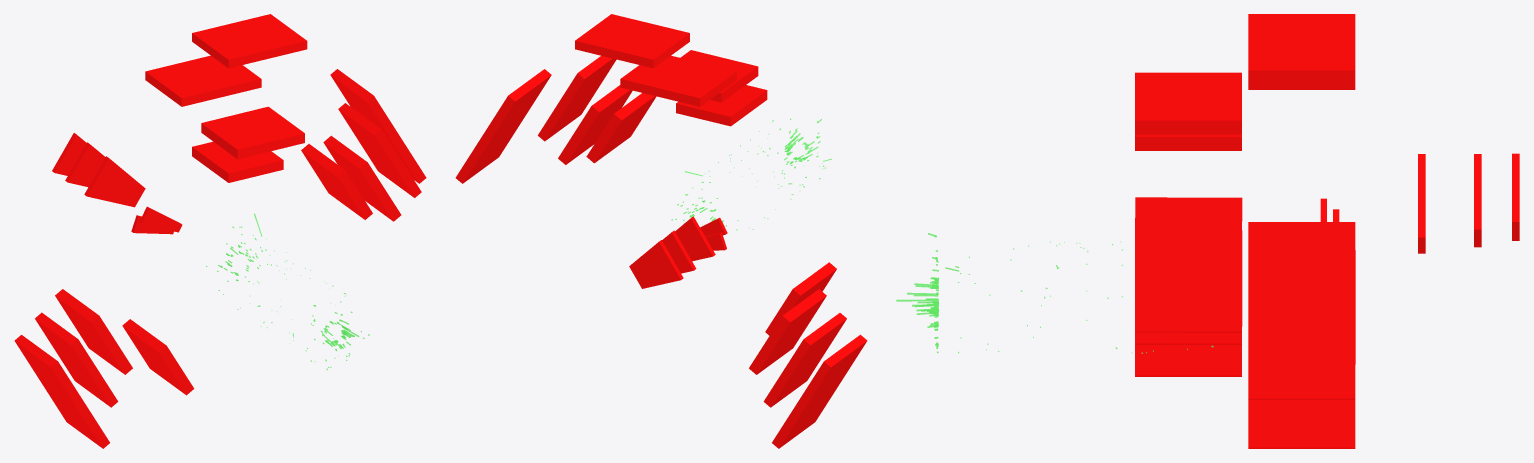
3 views of the same model, side by side, from view 1: azimuth 30°, elevation 25°; view 2: azimuth 150°, elevation 25°; view 3: azimuth 270°, elevation 25° (orthographic). The views are drawn at different scales.
Parts seen in each view (by area): view 1: MuonChambers_V1, EERecHits_V2; view 2: MuonChambers_V1, EERecHits_V2; view 3: MuonChambers_V1, EERecHits_V2.
Part boxes in pixels (x1,y1,x2,y2): MuonChambers_V1: (14,14,426,448); EERecHits_V2: (206,226,369,370); MuonChambers_V1: (455,14,867,448); EERecHits_V2: (671,118,825,226); MuonChambers_V1: (1135,14,1519,448); EERecHits_V2: (896,233,1213,353).
Size of what is drawn, in the model's own units: 14.88 by 13.58 by 14.63.
